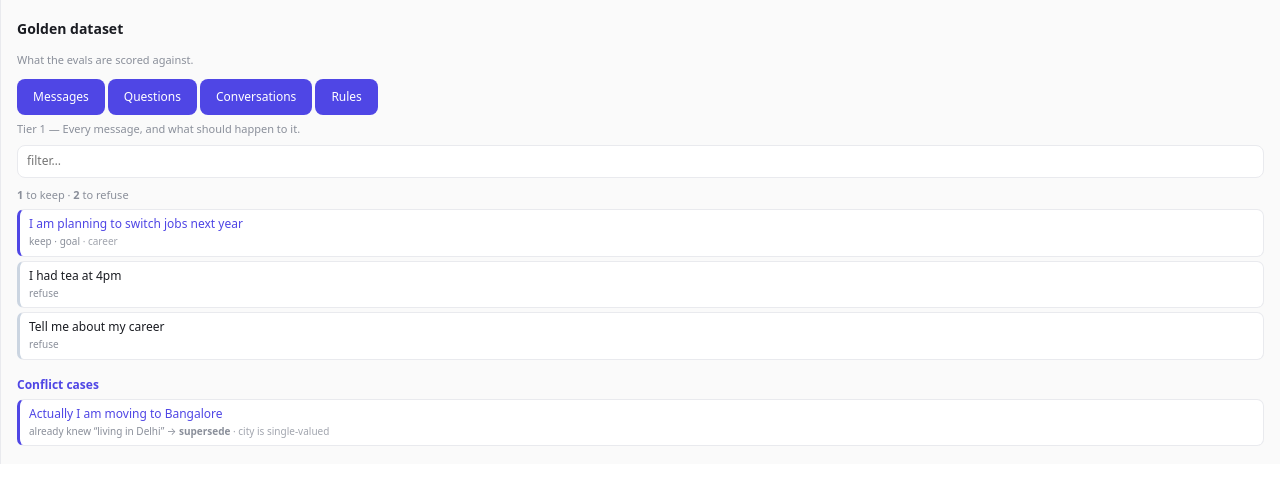
it: filters the list as you type
This screenshot has width=1280, height=481.
Check: the text "I had tea at 4pm" is shown, box [29,267,121,284]
Type "tea" into the field named "Filter dataset" at {"x": 640, "y": 162}, box [17,145,1264,178]
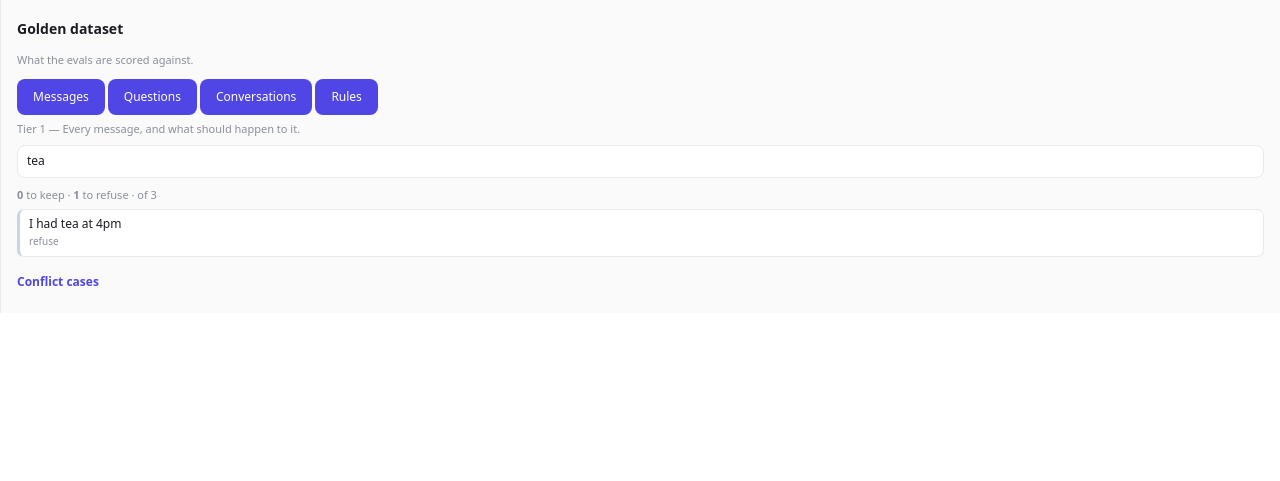
Check: the text "I had tea at 4pm" is shown, box [29,215,121,232]
Check: the text "I am planning to switch jobs next year" is gone
